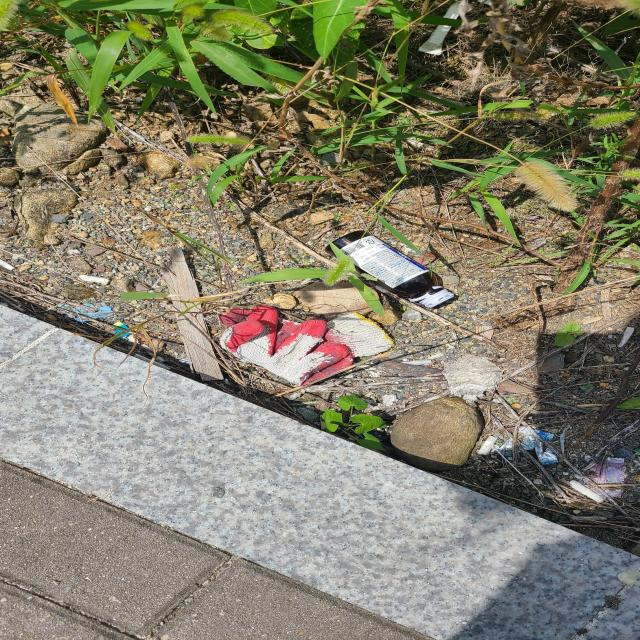litter: (326, 230, 454, 306)
